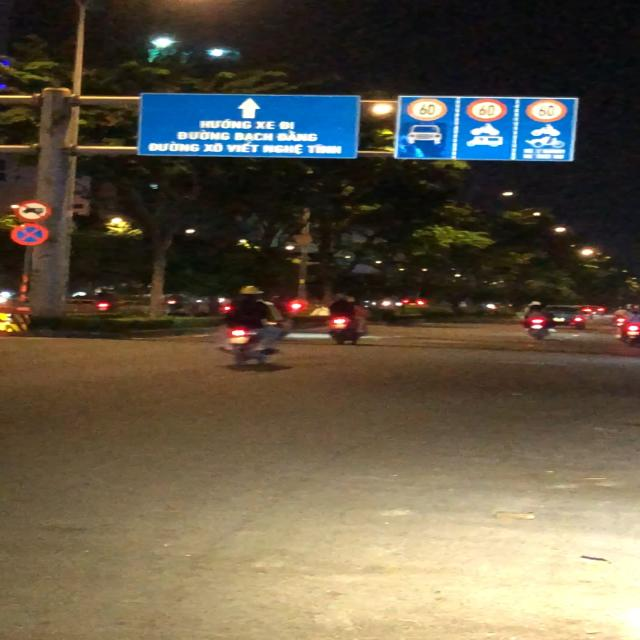Bien bao cam dung xe va do xe: (8, 221, 52, 248)
Bien bao cam xe oto tai: (10, 200, 52, 222)
Bien bao toc do toi da cho phep: (521, 97, 569, 123), (407, 98, 451, 123), (465, 97, 503, 123)
